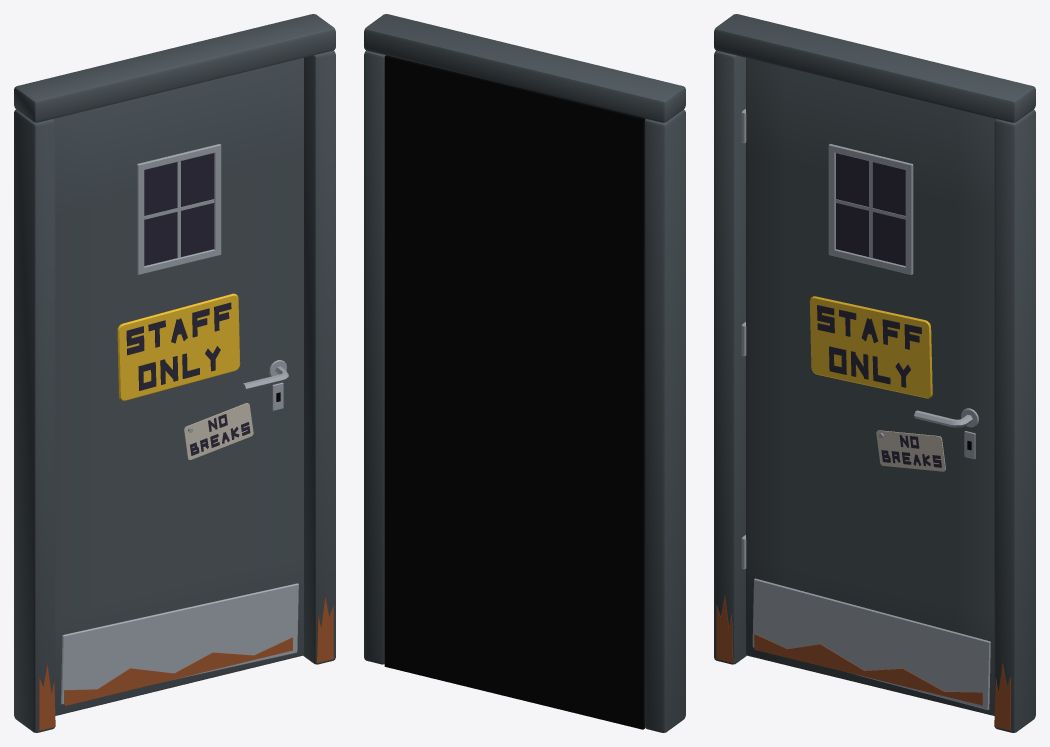
The model's file is backroom_door.glb.
The picture shows the model from 3 angles, left to right: view 1: azimuth 30°, elevation 25°; view 2: azimuth 150°, elevation 25°; view 3: azimuth 330°, elevation 25°; orthographic projection.
Parts seen in each view (by area): view 1: Door, Frame; view 2: Backing, Frame; view 3: Door, Frame.
Boxes of the visible parts, left/top/right/bottom form: Door: left=53, top=57, right=303, bottom=715; Frame: left=14, top=14, right=335, bottom=732; Backing: left=384, top=55, right=644, bottom=729; Frame: left=364, top=14, right=685, bottom=732; Door: left=746, top=57, right=996, bottom=715; Frame: left=714, top=14, right=1035, bottom=732.
Bounding box in the file's own units: 1.1 × 2.2 × 0.1705.
